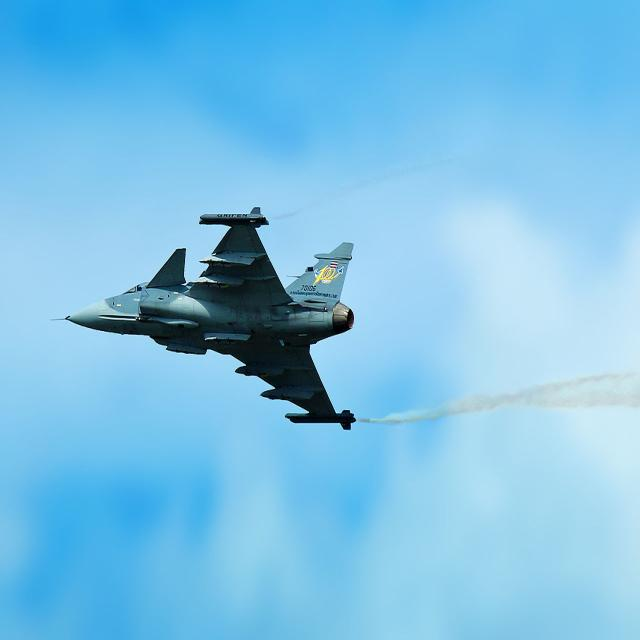MIL_Plane: (51, 207, 357, 430)
